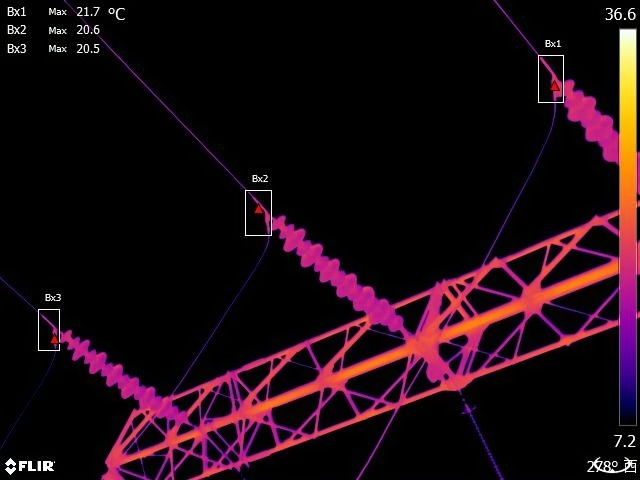clamp: (260, 201, 273, 231), (45, 321, 61, 344), (549, 70, 560, 101)
insulator: (264, 209, 412, 337), (61, 323, 196, 429), (554, 76, 640, 200)
